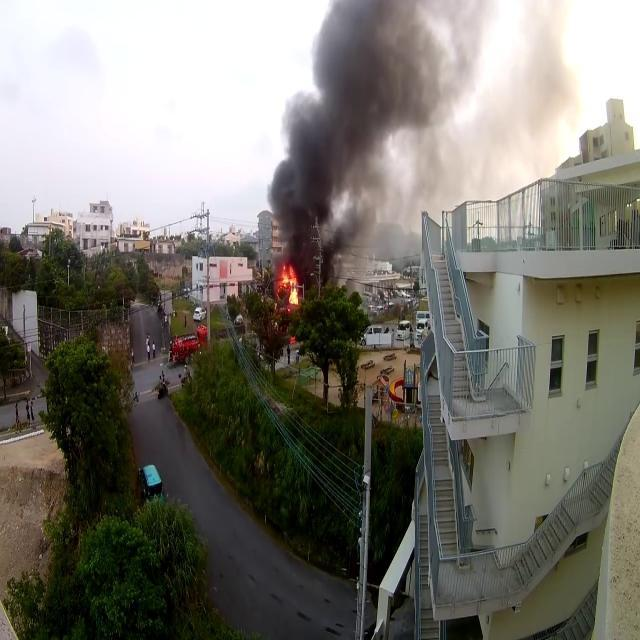Fire: (272, 260, 304, 306)
Smoke: (266, 0, 492, 238)
